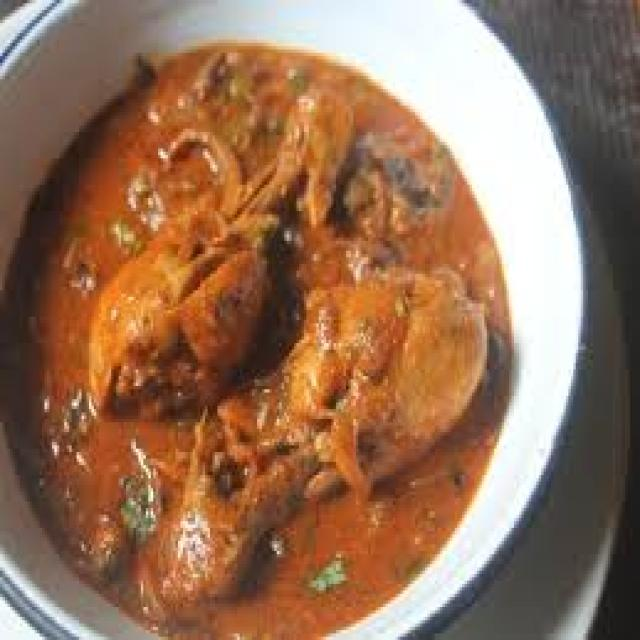Frango: (0, 53, 514, 630)
